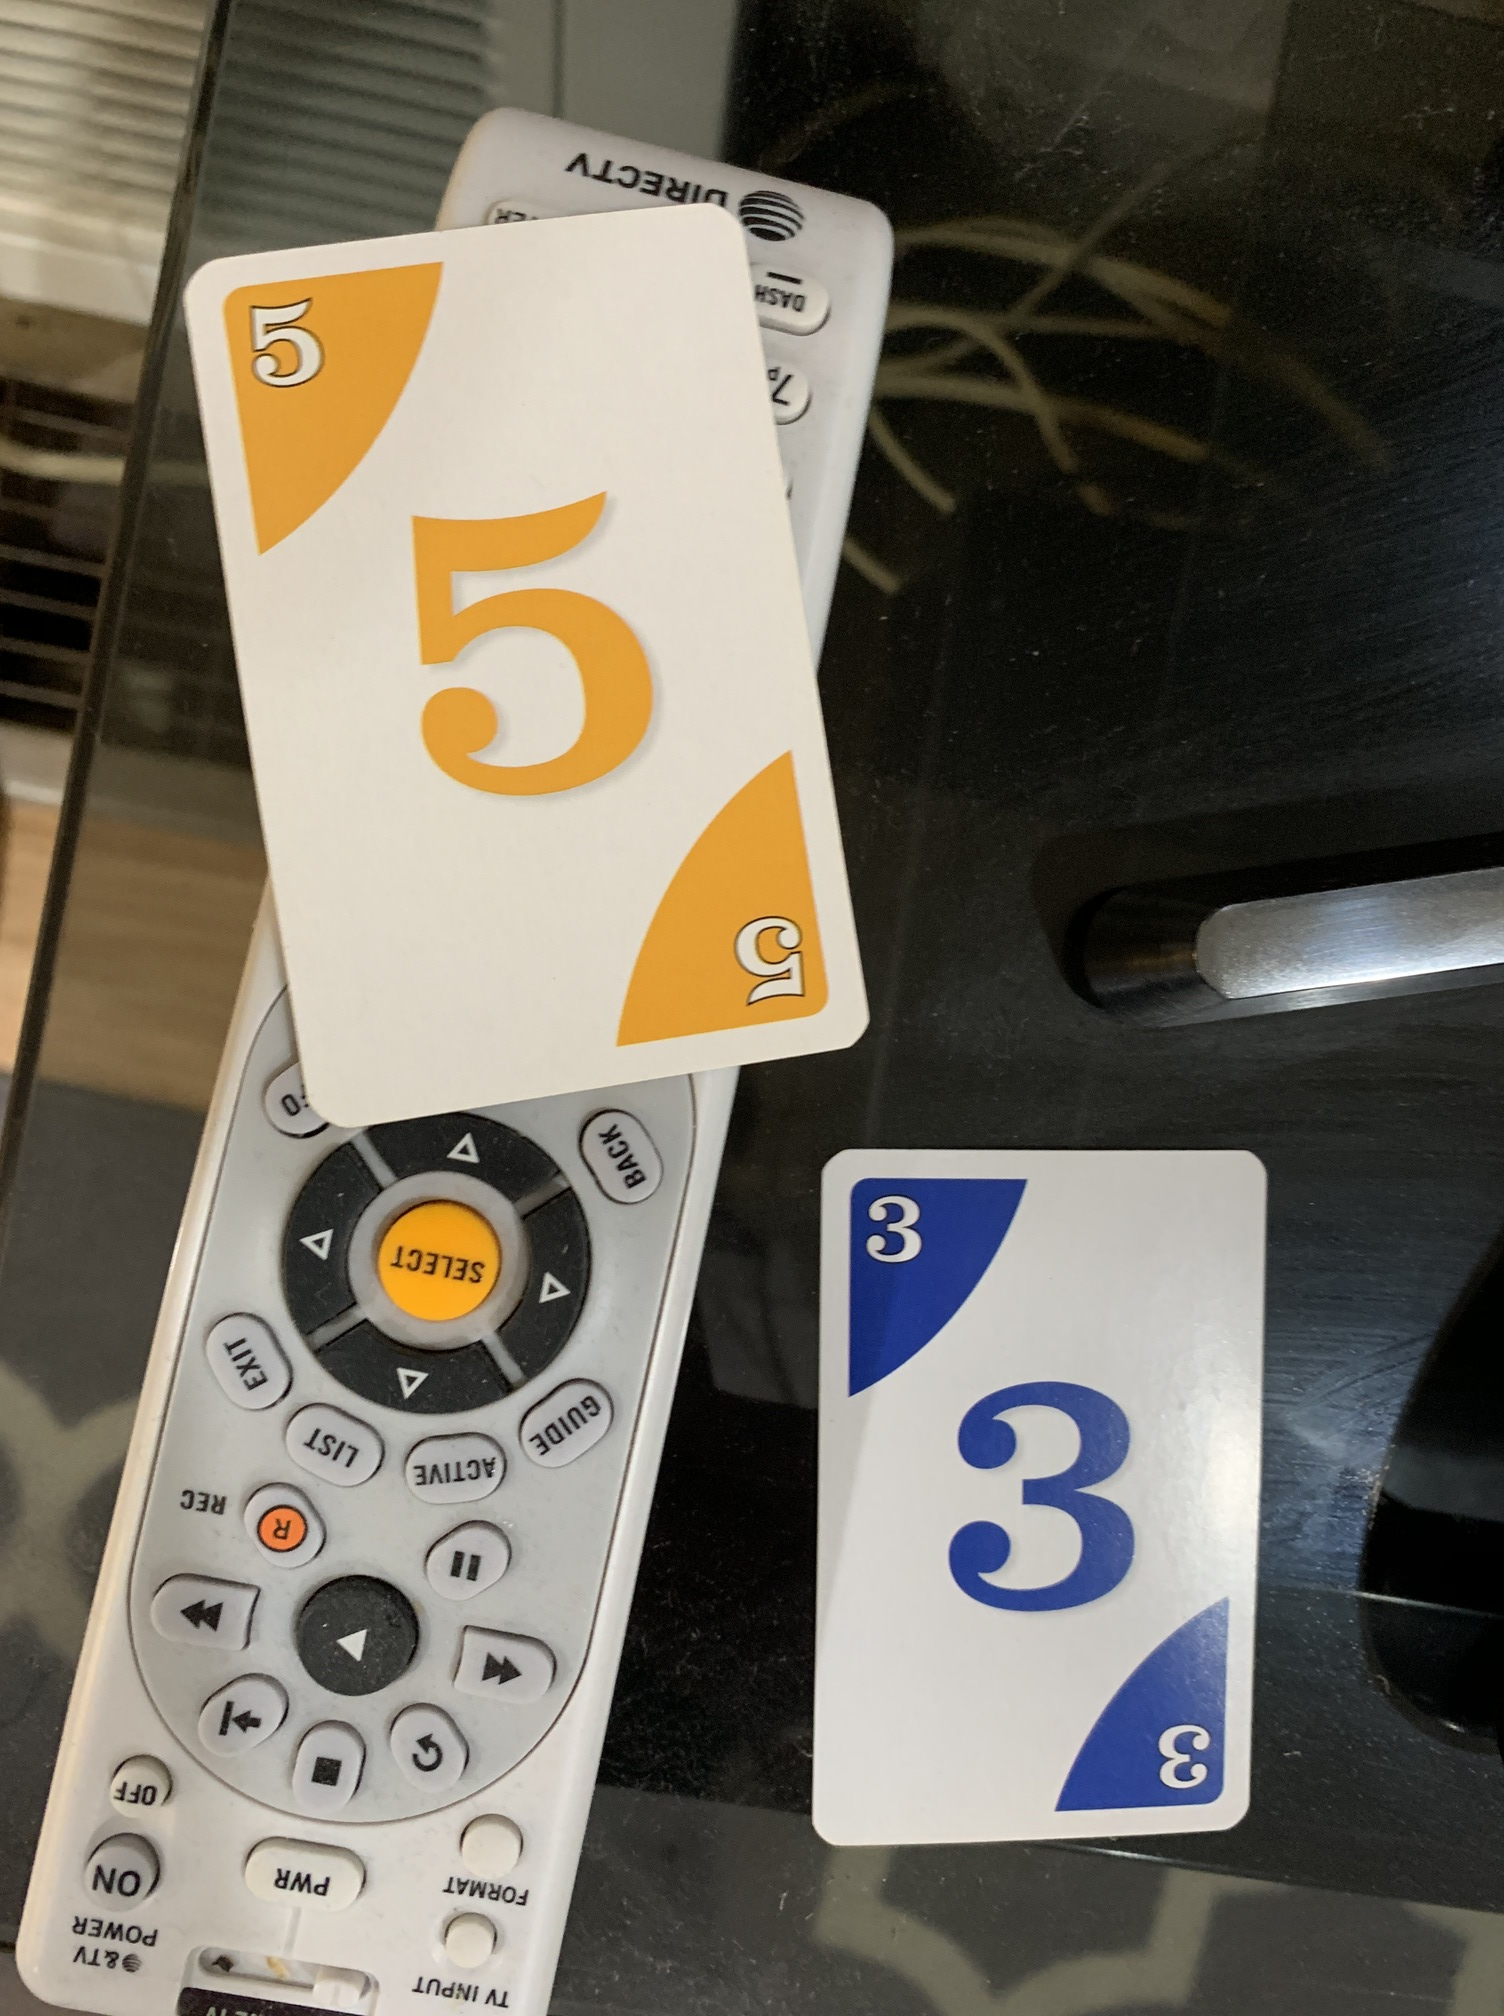five: (186, 188, 875, 1145)
three: (815, 1145, 1261, 1841)
